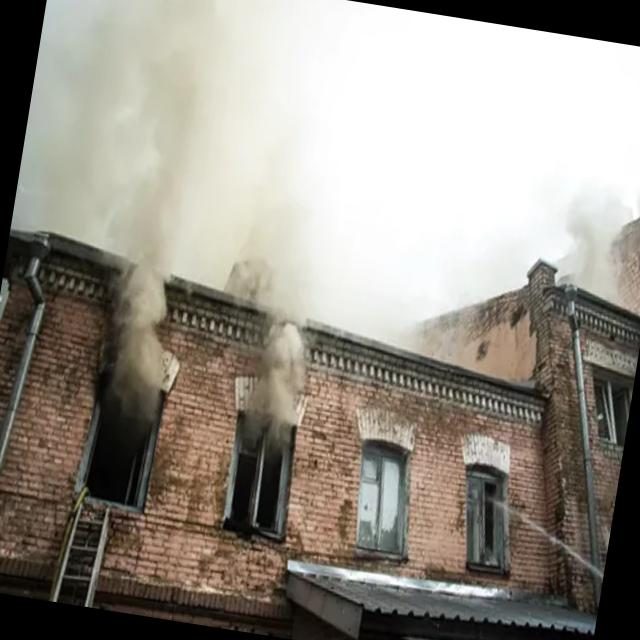Smoke: (88, 90, 213, 429), (210, 146, 342, 451), (556, 150, 640, 312)
